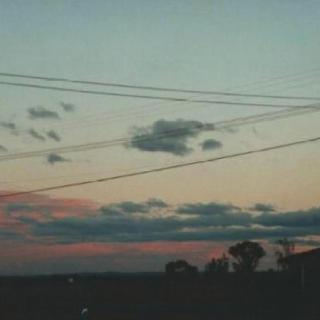Stratocumulus: (0, 100, 320, 253)
